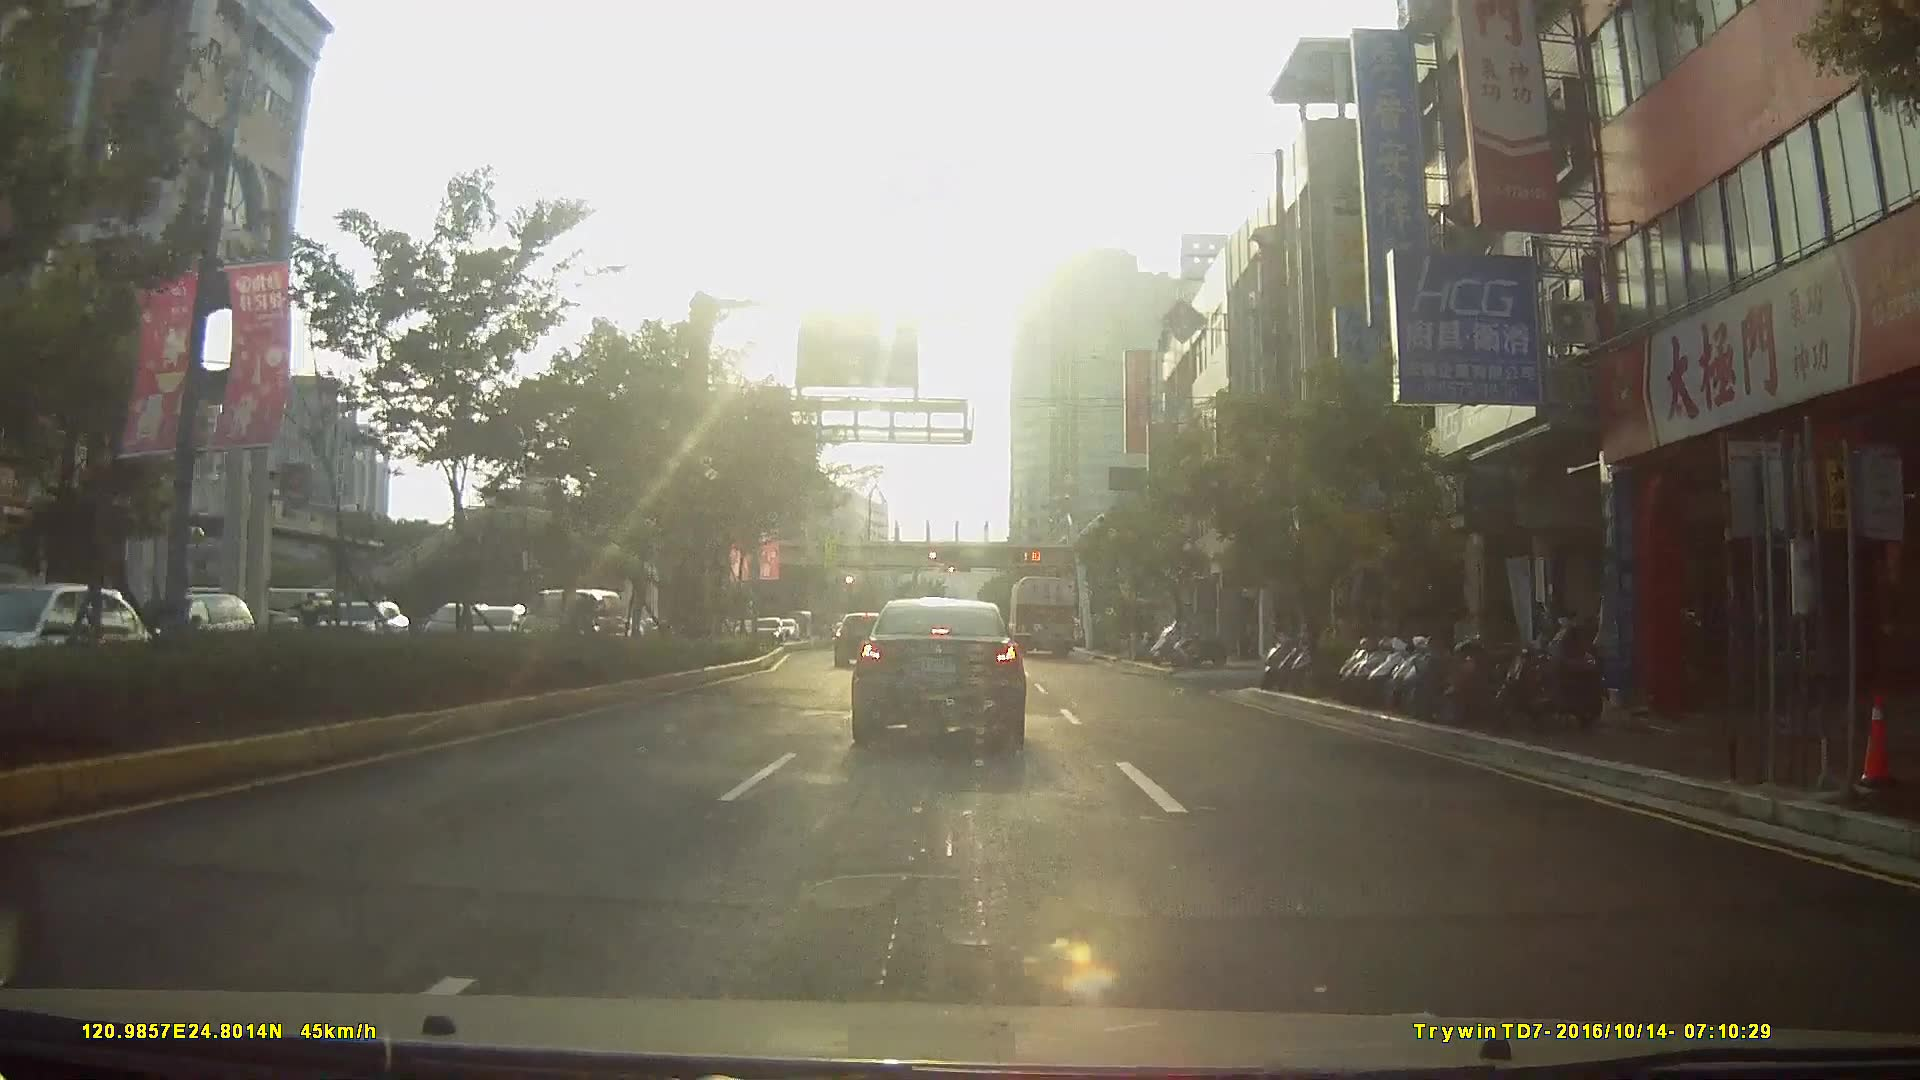vehicle: (849, 587, 1026, 744), (1, 584, 229, 700), (7, 582, 120, 659), (132, 589, 249, 659), (516, 587, 628, 654), (1005, 571, 1079, 658), (831, 609, 890, 666), (746, 616, 783, 646)
